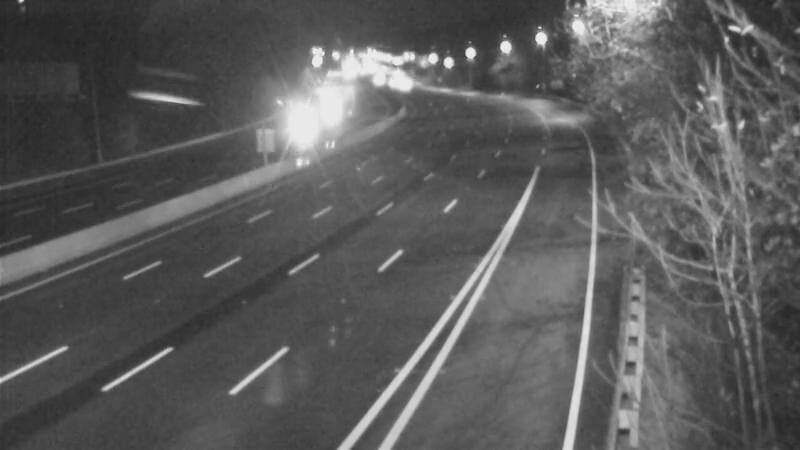vehicle: (352, 56, 402, 106), (379, 59, 429, 109), (280, 99, 330, 149)
